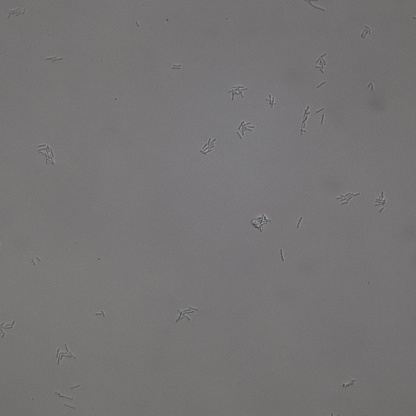R(colony): (54, 344, 77, 365), (36, 143, 56, 166), (336, 190, 361, 206), (228, 84, 250, 101), (236, 120, 255, 139), (176, 306, 199, 321), (252, 214, 270, 232), (199, 137, 216, 155), (315, 54, 328, 74), (301, 106, 310, 132), (8, 6, 25, 19), (375, 191, 386, 207), (361, 25, 372, 39), (1, 320, 15, 330), (266, 95, 276, 108), (44, 56, 62, 63), (342, 379, 356, 388), (31, 257, 41, 265), (171, 64, 182, 70)
